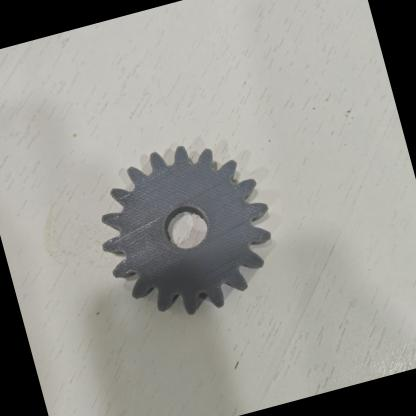gear: (82, 127, 290, 332)
